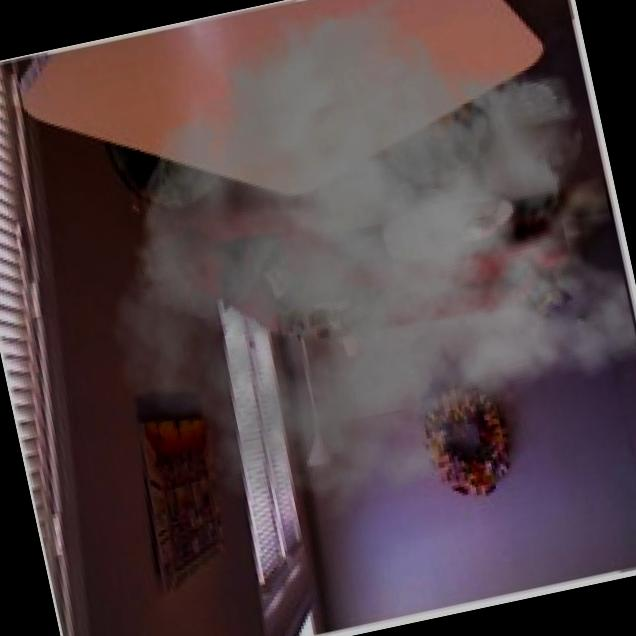smoke: (50, 0, 636, 560)
